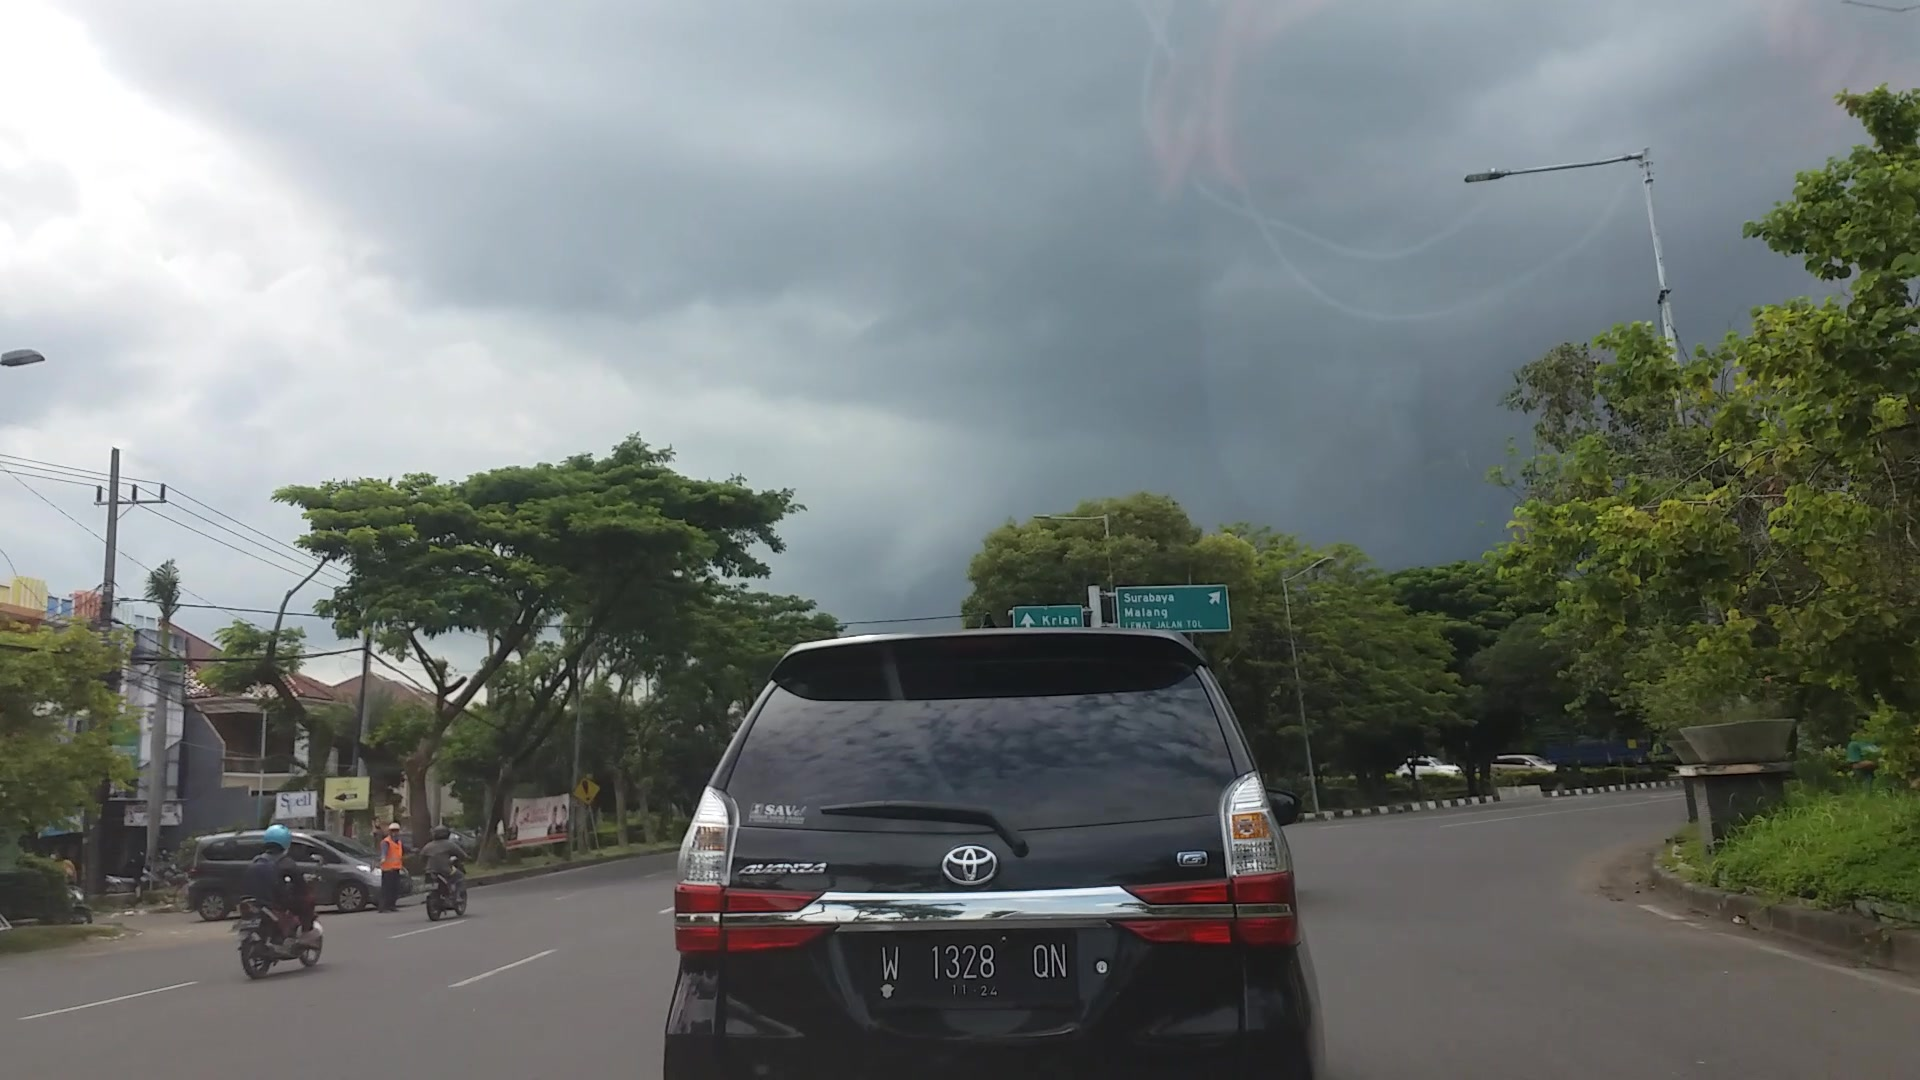plate_positive: (872, 931, 1080, 1011)
